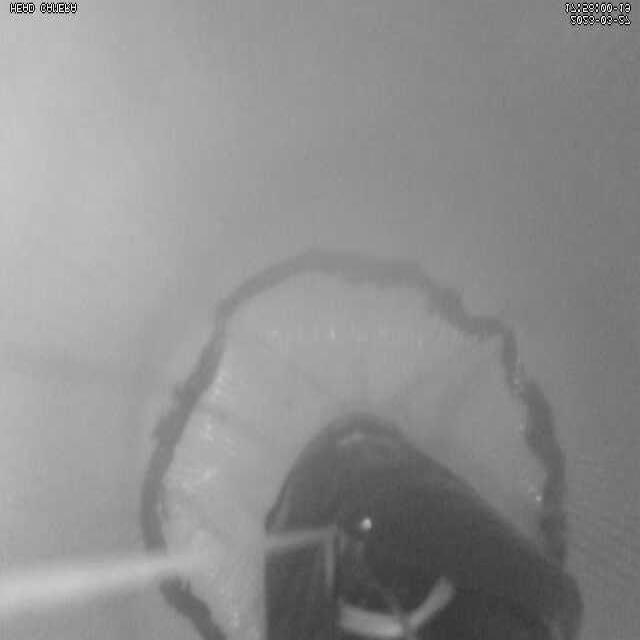red-circle: (137, 251, 570, 639)
